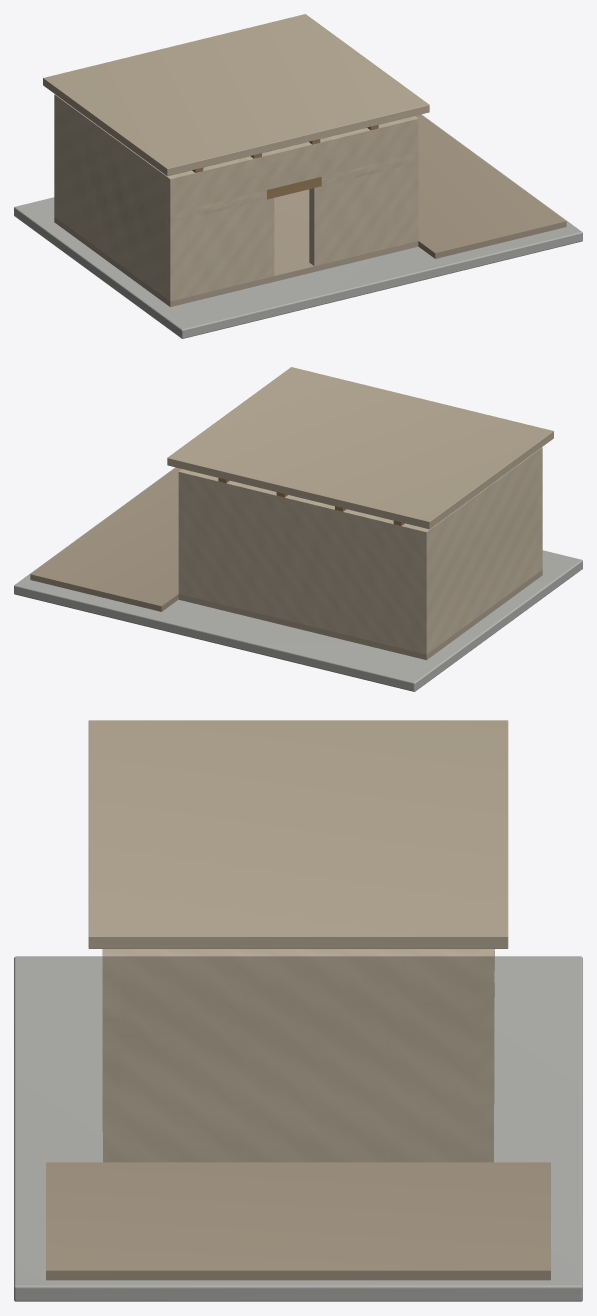
Rendered from nativity-home.glb.
3 views of the same model, one above another, from view 1: azimuth 30°, elevation 25°; view 2: azimuth 150°, elevation 25°; view 3: azimuth 270°, elevation 25° (orthographic). The views are drawn at different scales.
Visible parts, largest first — view 1: nativity-home-nativity-modern-thick-roof-comparison, nativity-home-nativity-modern-neutral-display-base, nativity-home-nativity-original-selected-earth-plaster.001, nativity-home-nativity-original-selected-courtyard-earth, nativity-home-nativity-original-selected-earth-plaster.007, nativity-home-nativity-original-selected-earth-plaster.003, nativity-home-nativity-original-selected-earth-plaster.004, nativity-home-nativity-original-selected-floor, nativity-home-nativity-original-selected-earth-plaster.005, nativity-home-nativity-original-selected-earth-plaster.006, nativity-home-nativity-original-selected-earth-plaster, nativity-home-nativity-original-selected-wood; view 2: nativity-home-nativity-modern-thick-roof-comparison, nativity-home-nativity-original-selected-earth-plaster, nativity-home-nativity-modern-neutral-display-base, nativity-home-nativity-original-selected-earth-plaster.001, nativity-home-nativity-original-selected-courtyard-earth, nativity-home-nativity-original-selected-floor, nativity-home-nativity-original-selected-earth-plaster.003; view 3: nativity-home-nativity-modern-thick-roof-comparison, nativity-home-nativity-original-selected-earth-plaster.002, nativity-home-nativity-original-selected-courtyard-earth, nativity-home-nativity-modern-neutral-display-base, nativity-home-nativity-original-selected-earth-plaster, nativity-home-nativity-original-selected-earth-plaster.004, nativity-home-nativity-original-selected-earth-plaster.007.
Part boxes in pixels (x1,y1,x2,y2): nativity-home-nativity-modern-thick-roof-comparison: (43,14,429,176); nativity-home-nativity-modern-neutral-display-base: (14,114,582,338); nativity-home-nativity-original-selected-earth-plaster.001: (59,98,165,297); nativity-home-nativity-original-selected-courtyard-earth: (415,114,566,258); nativity-home-nativity-original-selected-earth-plaster.007: (165,116,418,213); nativity-home-nativity-original-selected-earth-plaster.003: (165,198,274,301); nativity-home-nativity-original-selected-earth-plaster.004: (309,163,418,266); nativity-home-nativity-original-selected-floor: (54,189,418,306); nativity-home-nativity-original-selected-earth-plaster.005: (165,190,266,222); nativity-home-nativity-original-selected-earth-plaster.006: (321,153,418,185); nativity-home-nativity-original-selected-earth-plaster: (54,94,59,219); nativity-home-nativity-original-selected-wood: (267,177,321,199); nativity-home-nativity-modern-thick-roof-comparison: (167,367,553,529); nativity-home-nativity-original-selected-earth-plaster: (178,469,431,654); nativity-home-nativity-modern-neutral-display-base: (14,467,582,691); nativity-home-nativity-original-selected-earth-plaster.001: (431,451,537,650); nativity-home-nativity-original-selected-courtyard-earth: (30,467,181,611); nativity-home-nativity-original-selected-floor: (178,570,542,659); nativity-home-nativity-original-selected-earth-plaster.003: (537,491,542,572); nativity-home-nativity-modern-thick-roof-comparison: (88,720,508,948); nativity-home-nativity-original-selected-earth-plaster.002: (120,949,476,1162); nativity-home-nativity-original-selected-courtyard-earth: (46,1162,550,1280); nativity-home-nativity-modern-neutral-display-base: (14,956,582,1301); nativity-home-nativity-original-selected-earth-plaster: (476,949,494,1162); nativity-home-nativity-original-selected-earth-plaster.004: (102,1020,120,1162); nativity-home-nativity-original-selected-earth-plaster.007: (102,949,120,1014).
Bounding box in the file's own units: 1.1 × 0.4 × 0.8.
